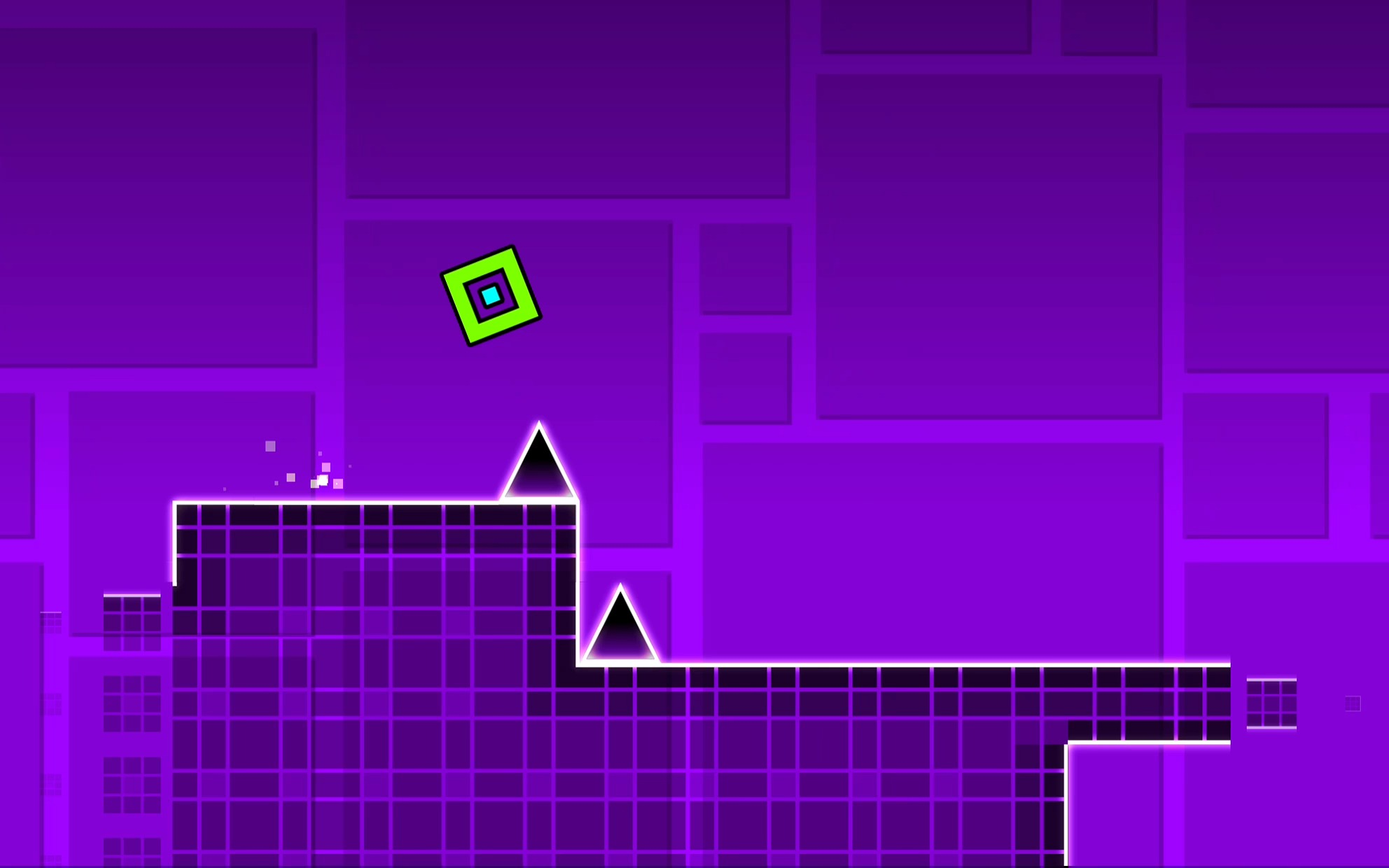Block2: (175, 500, 581, 868), (578, 655, 1066, 868), (90, 594, 165, 868), (1066, 662, 1231, 741), (1241, 677, 1300, 727)
Player: (442, 244, 540, 345)
Spike: (500, 421, 577, 502), (581, 584, 658, 663)
